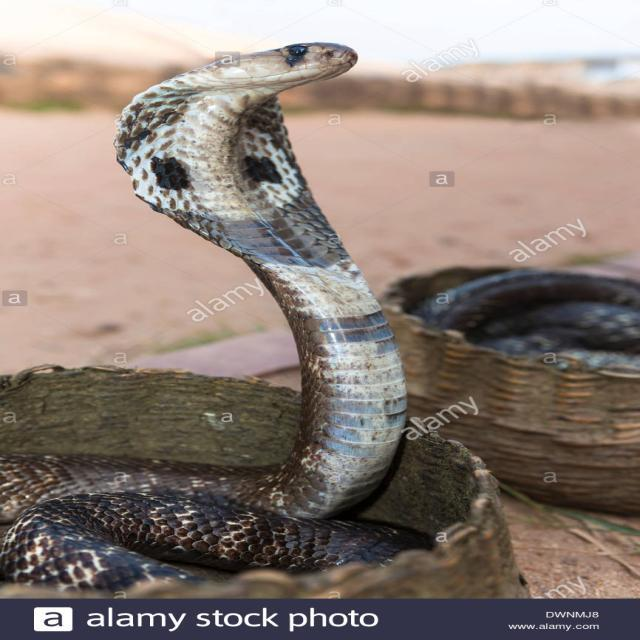Snake: (1, 41, 432, 594)
